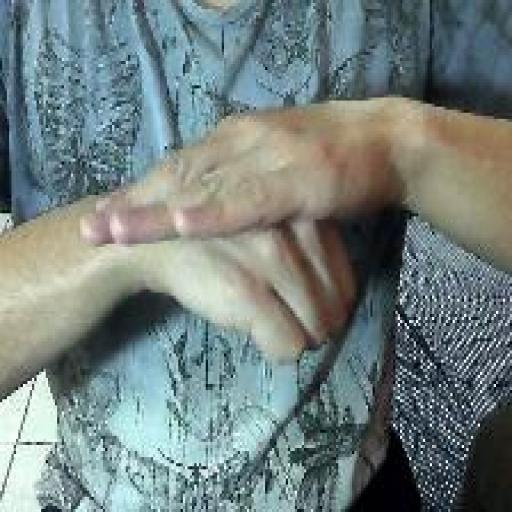Inu -dog-: (76, 105, 361, 370)
